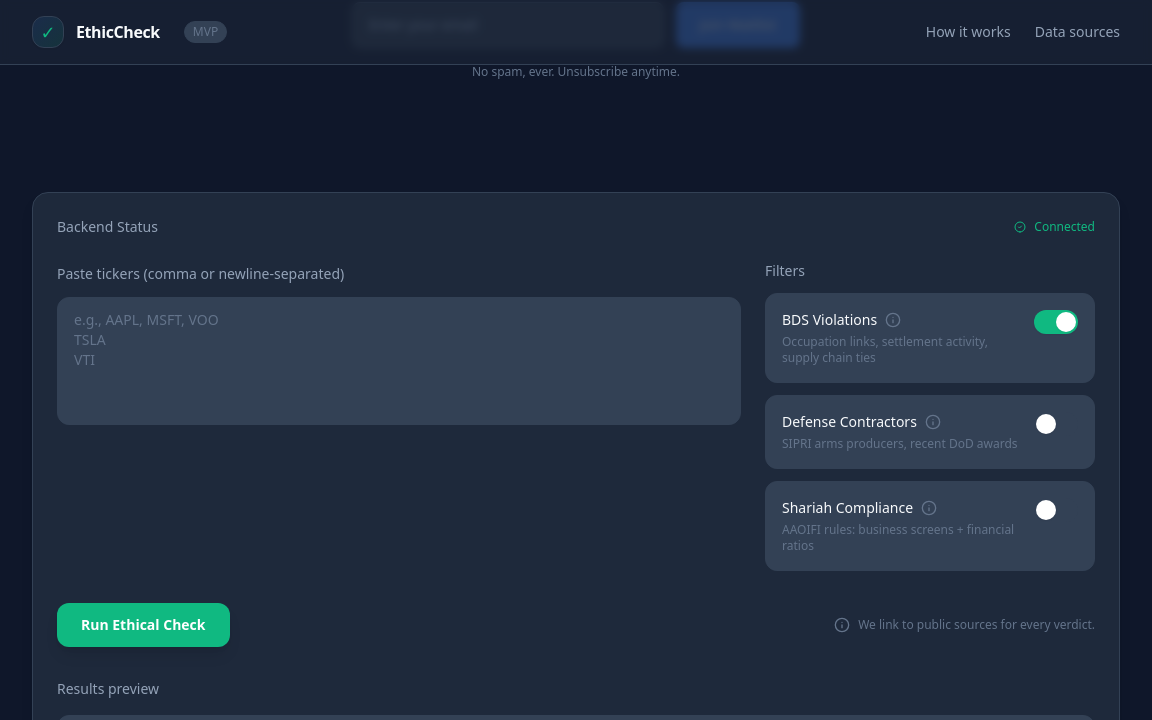
Test case: EthicCheckLanding Component › Screening Panel Functionality › handles screening error
This screenshot has width=1152, height=720.
(page scrolled)
Type "AAPL" into the text box with placeholder "e.g., AAPL, MSFT, VOO TSLA VTI" at (399, 361), box [57,297,741,425]
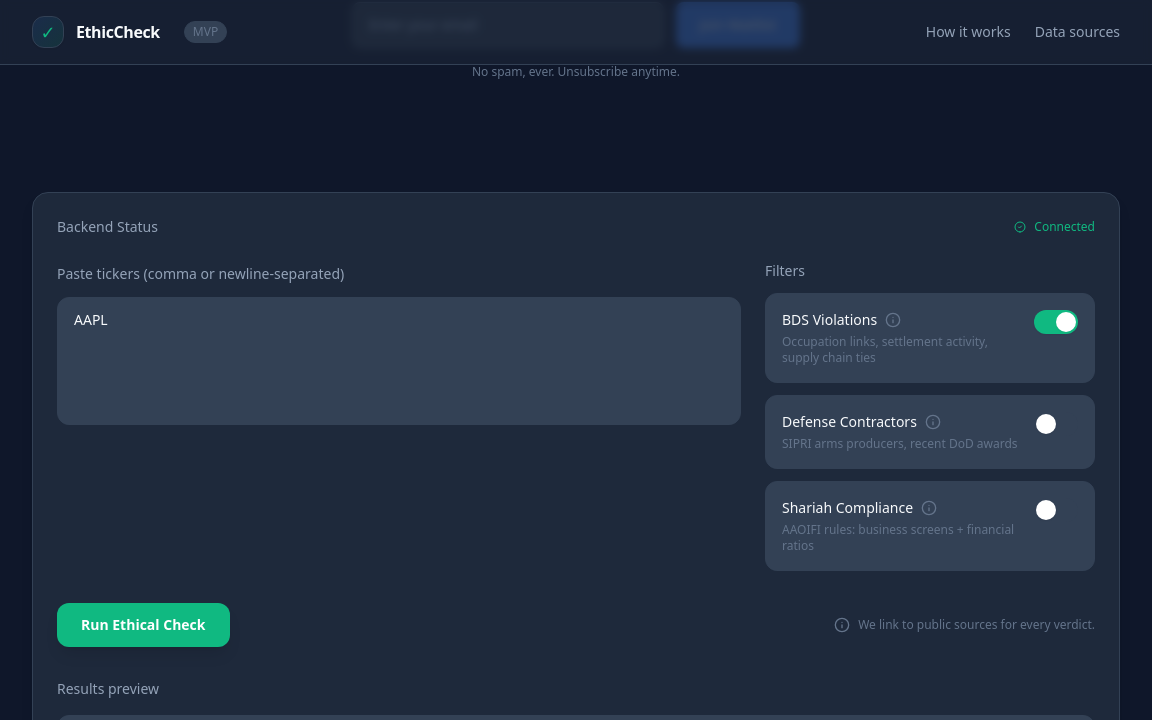
Click the button "Run Ethical Check" at (143, 625), box [57,603,230,647]
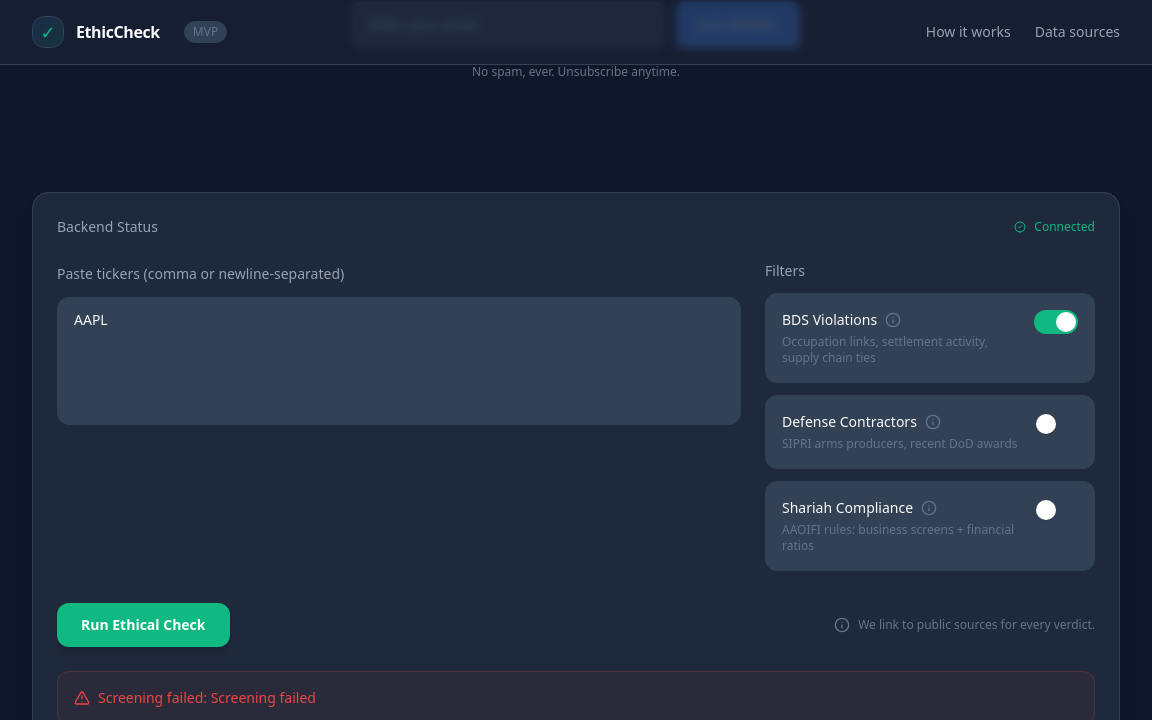
Now the text "Screening failed: Screening failed" is shown, box [74,688,316,707]
